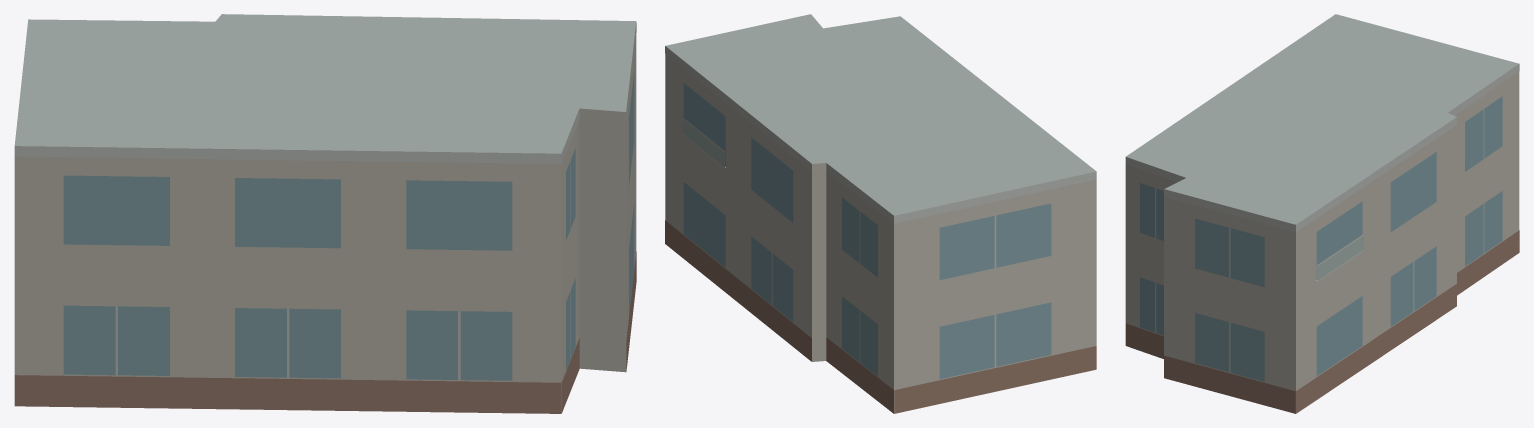
File: survey-upis-32798172.glb
3 views of the same model, side by side, from view 1: azimuth 30°, elevation 25°; view 2: azimuth 150°, elevation 25°; view 3: azimuth 270°, elevation 25° (orthographic). The views are drawn at different scales.
Visible parts, largest first — view 1: survey-upis-32798172.tmp; view 2: survey-upis-32798172.tmp; view 3: survey-upis-32798172.tmp.
Boxes of the visible parts, x1,y1,x2,y2 form: survey-upis-32798172.tmp: [14, 14, 636, 413]; survey-upis-32798172.tmp: [665, 14, 1096, 413]; survey-upis-32798172.tmp: [1125, 14, 1519, 413].
Bounding box in the file's own units: 14.59 × 6.1 × 11.52.
